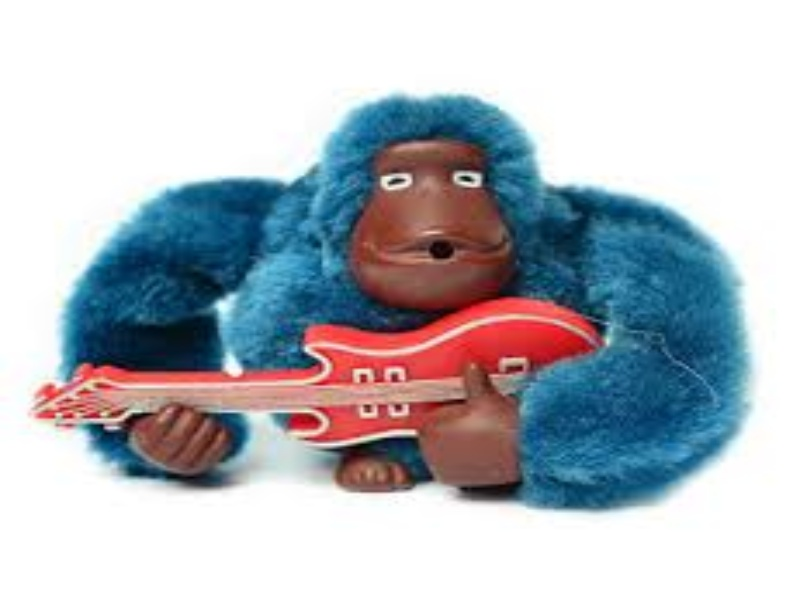monkey: (283, 90, 612, 304)
